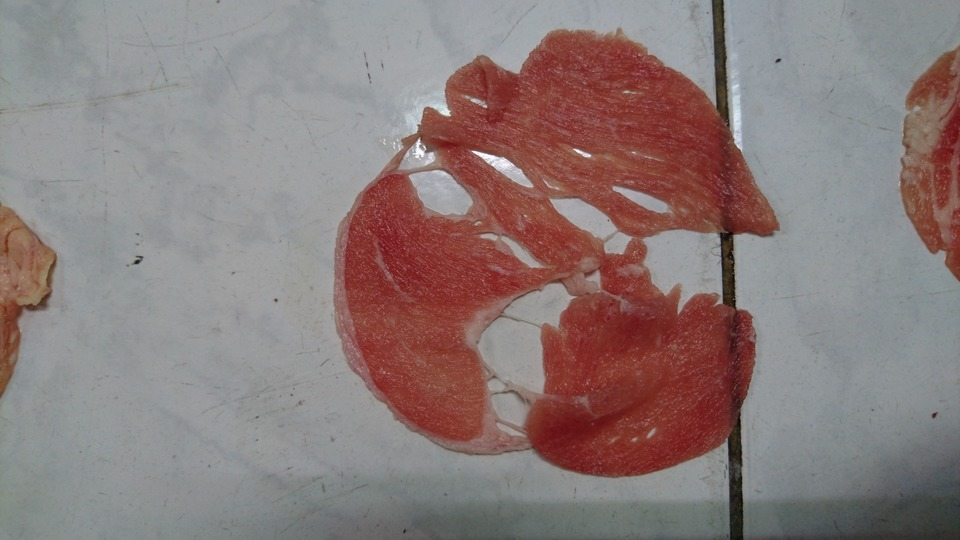restructured meat: (303, 26, 763, 470), (902, 67, 960, 263)
